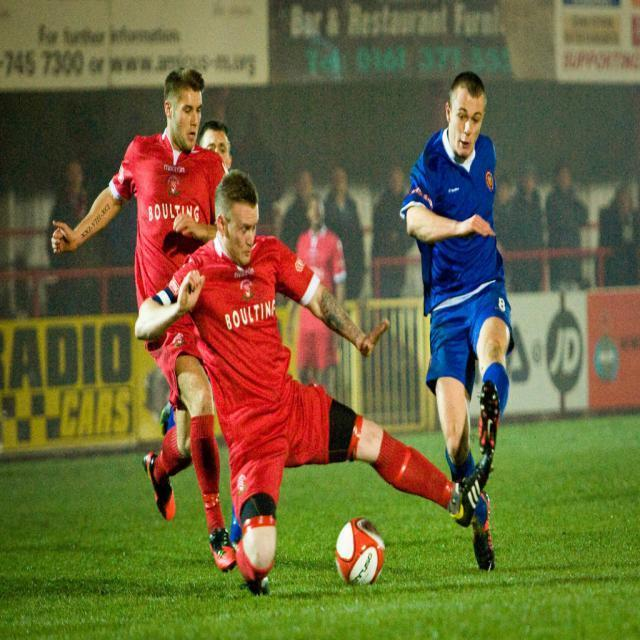football: (303, 510, 434, 602)
